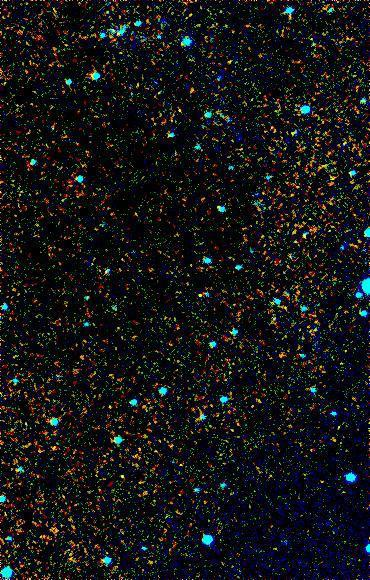star: (311, 455, 341, 485)
